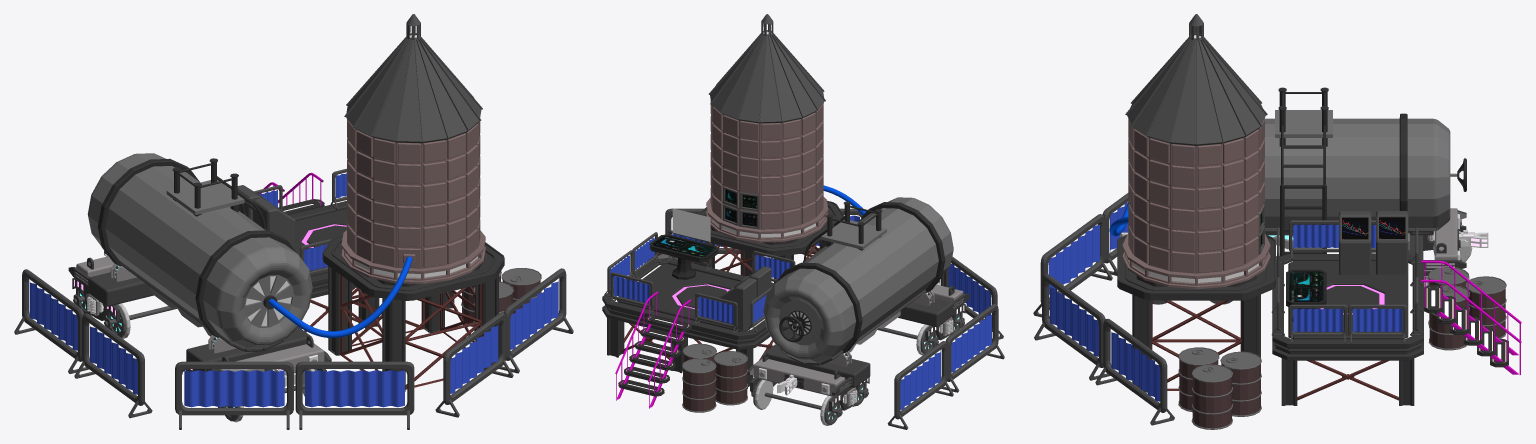
Rendered from watertank.fbx.
3 views of the same model, side by side, from view 1: azimuth 30°, elevation 25°; view 2: azimuth 150°, elevation 25°; view 3: azimuth 270°, elevation 25° (orthographic). The views are drawn at different scales.
Visible parts, largest first — view 1: Cube.009; view 2: Cube.009; view 3: Cube.009.
Boxes of the visible parts, box(x1,y1,x2,y2) form: Cube.009: box(14, 14, 573, 429); Cube.009: box(602, 14, 1004, 429); Cube.009: box(1033, 14, 1521, 429).
Size of the model in its own units: 1857 by 1454 by 1833.
